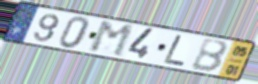0: (58, 16, 91, 50)
4: (126, 26, 155, 62)
9: (32, 13, 61, 42)
B: (189, 38, 230, 74)
L: (161, 33, 187, 68)
M: (87, 20, 136, 59)
